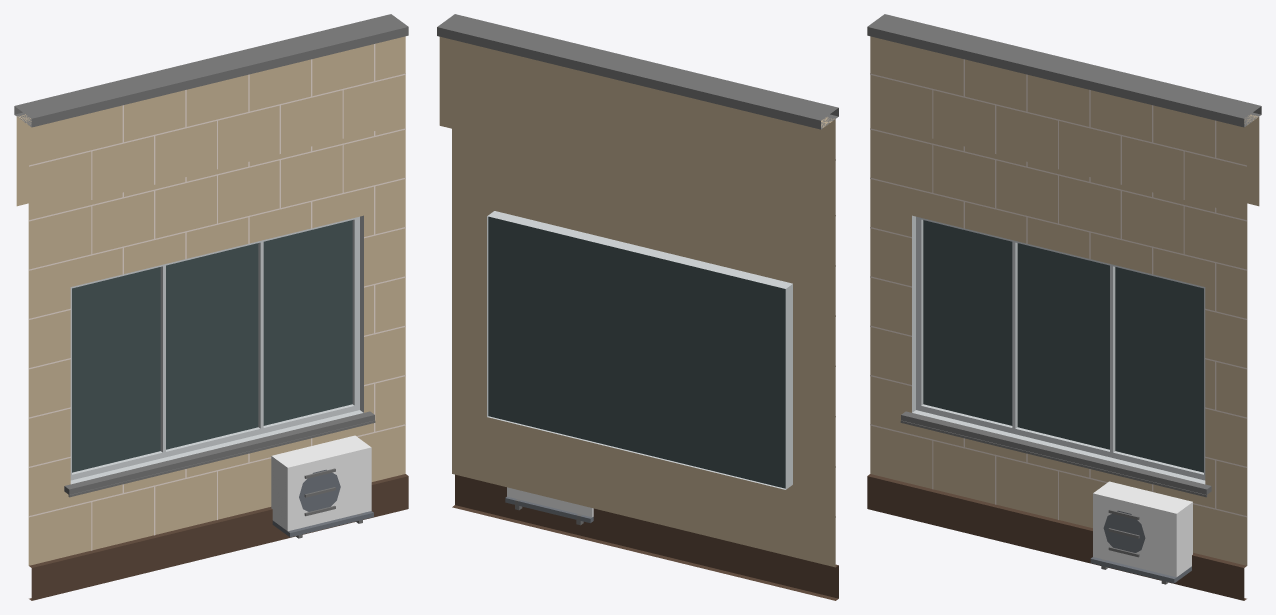
The model's file is top-w1_close.fbx.
3 renders of one model, left to right at view 1: azimuth 30°, elevation 25°; view 2: azimuth 150°, elevation 25°; view 3: azimuth 330°, elevation 25°, orthographic.
Visible parts, largest first — view 1: a2009/200/top-w1_close; view 2: a2009/200/top-w1_close; view 3: a2009/200/top-w1_close.
Boxes of the visible parts, x1,y1,x2,y2 form: a2009/200/top-w1_close: (14,14,408,600); a2009/200/top-w1_close: (437,14,838,600); a2009/200/top-w1_close: (867,14,1261,600).
Size of the model in its own units: 3.6 by 4.4 by 0.58.
